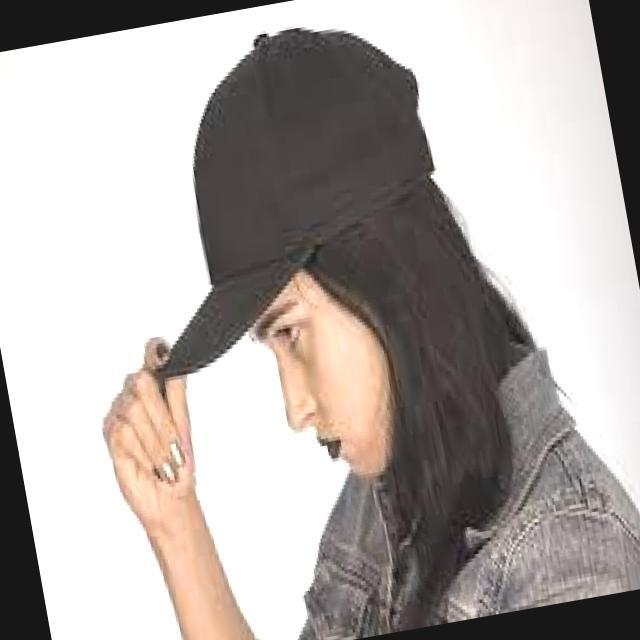cap: (78, 0, 480, 422)
